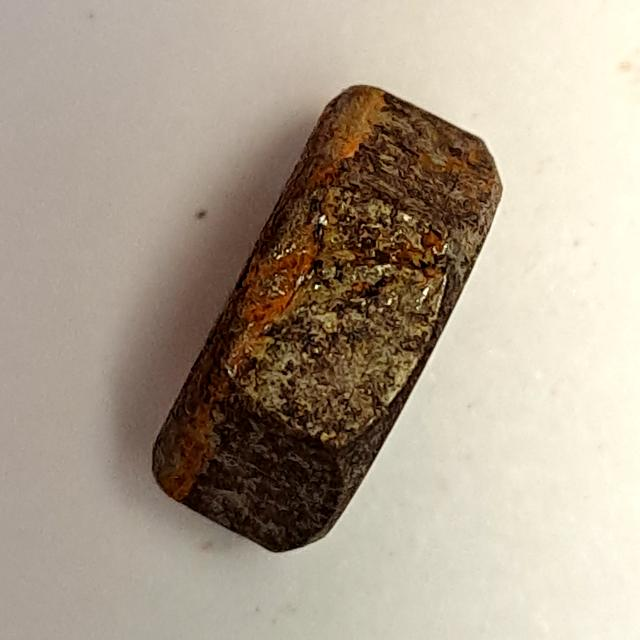Rust: (122, 77, 521, 572)
